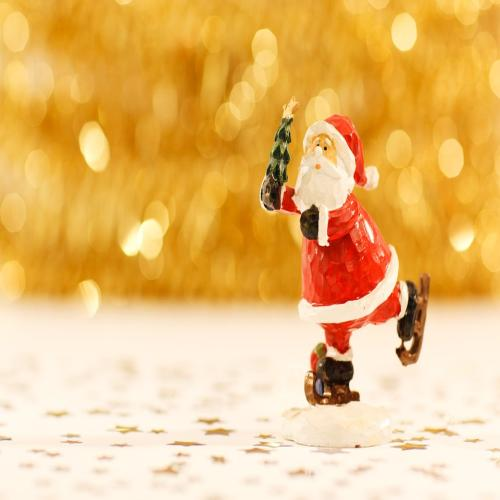Santa: (260, 113, 432, 403)
